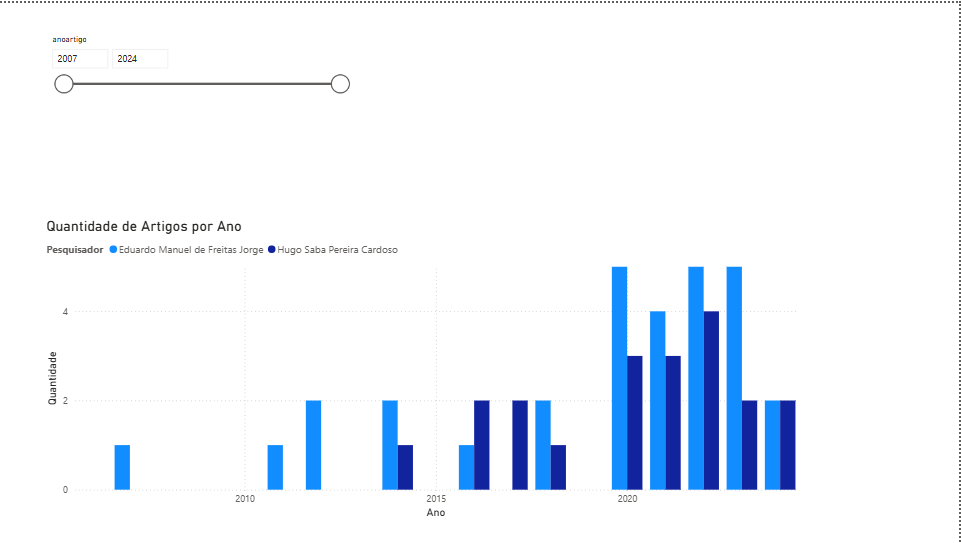

The dashboard page shown, as its layout file describes it:
{"tool":"powerbi","page":{"name":"Artigos/Ano","canvas":[1280,720],"ordinal":0},"visuals":[{"type":"clusteredColumnChart","title":"Quantidade de Artigos por Ano","fields":{"Category":["public producoes.anoartigo"],"Y":["CountNonNull(public producoes.nomeartigo)"],"Series":["public pesquisadores.nome"]},"box":[58,286,1010,406],"z":0},{"type":"slicer","fields":{"Values":["public producoes.anoartigo"]},"box":[58,36,418,132],"z":1}]}

Visuals, with their boxes in screenshot pixels (x1, y1, x2, y2), scaled from the page's 1280x720 canvas onto the 961x543 screenshot:
"Quantidade de Artigos por Ano" clusteredColumnChart: <bbox>44, 216, 802, 522</bbox>
slicer - public producoes.anoartigo: <bbox>44, 27, 357, 127</bbox>
